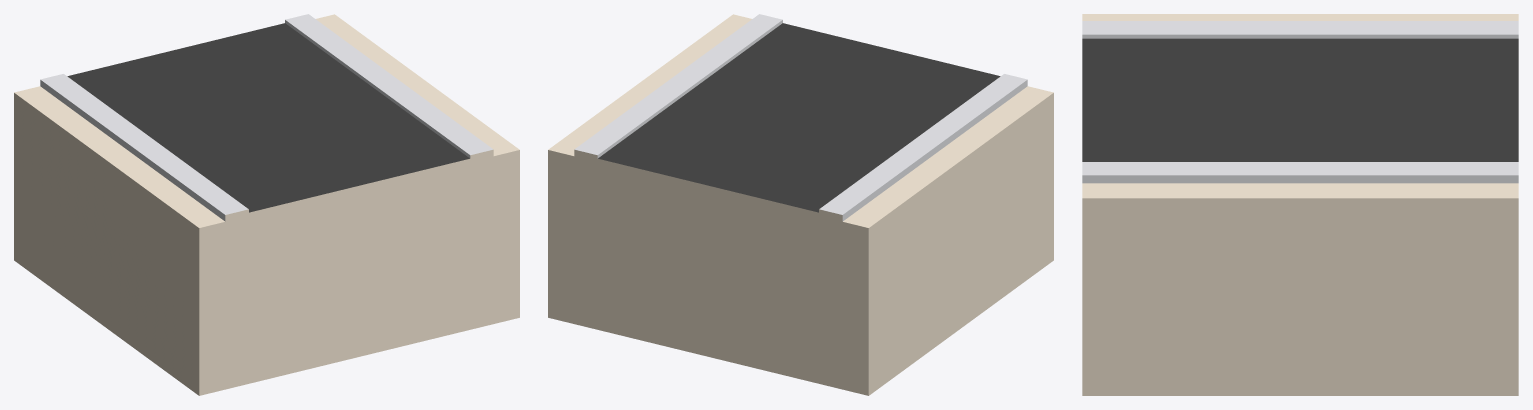
File: roadStraightBridge.glb
3 views of the same model, side by side, from view 1: azimuth 30°, elevation 25°; view 2: azimuth 150°, elevation 25°; view 3: azimuth 270°, elevation 25° (orthographic). The views are drawn at different scales.
Parts seen in each view (by area): view 1: roadStraightBridge(Clone); view 2: roadStraightBridge(Clone); view 3: roadStraightBridge(Clone).
Boxes of the visible parts, x1=… form: roadStraightBridge(Clone): x1=14, y1=14, x2=519, y2=395; roadStraightBridge(Clone): x1=548, y1=14, x2=1053, y2=395; roadStraightBridge(Clone): x1=1082, y1=14, x2=1518, y2=395.
Bounding box in the file's own units: 1 × 0.52 × 1.
